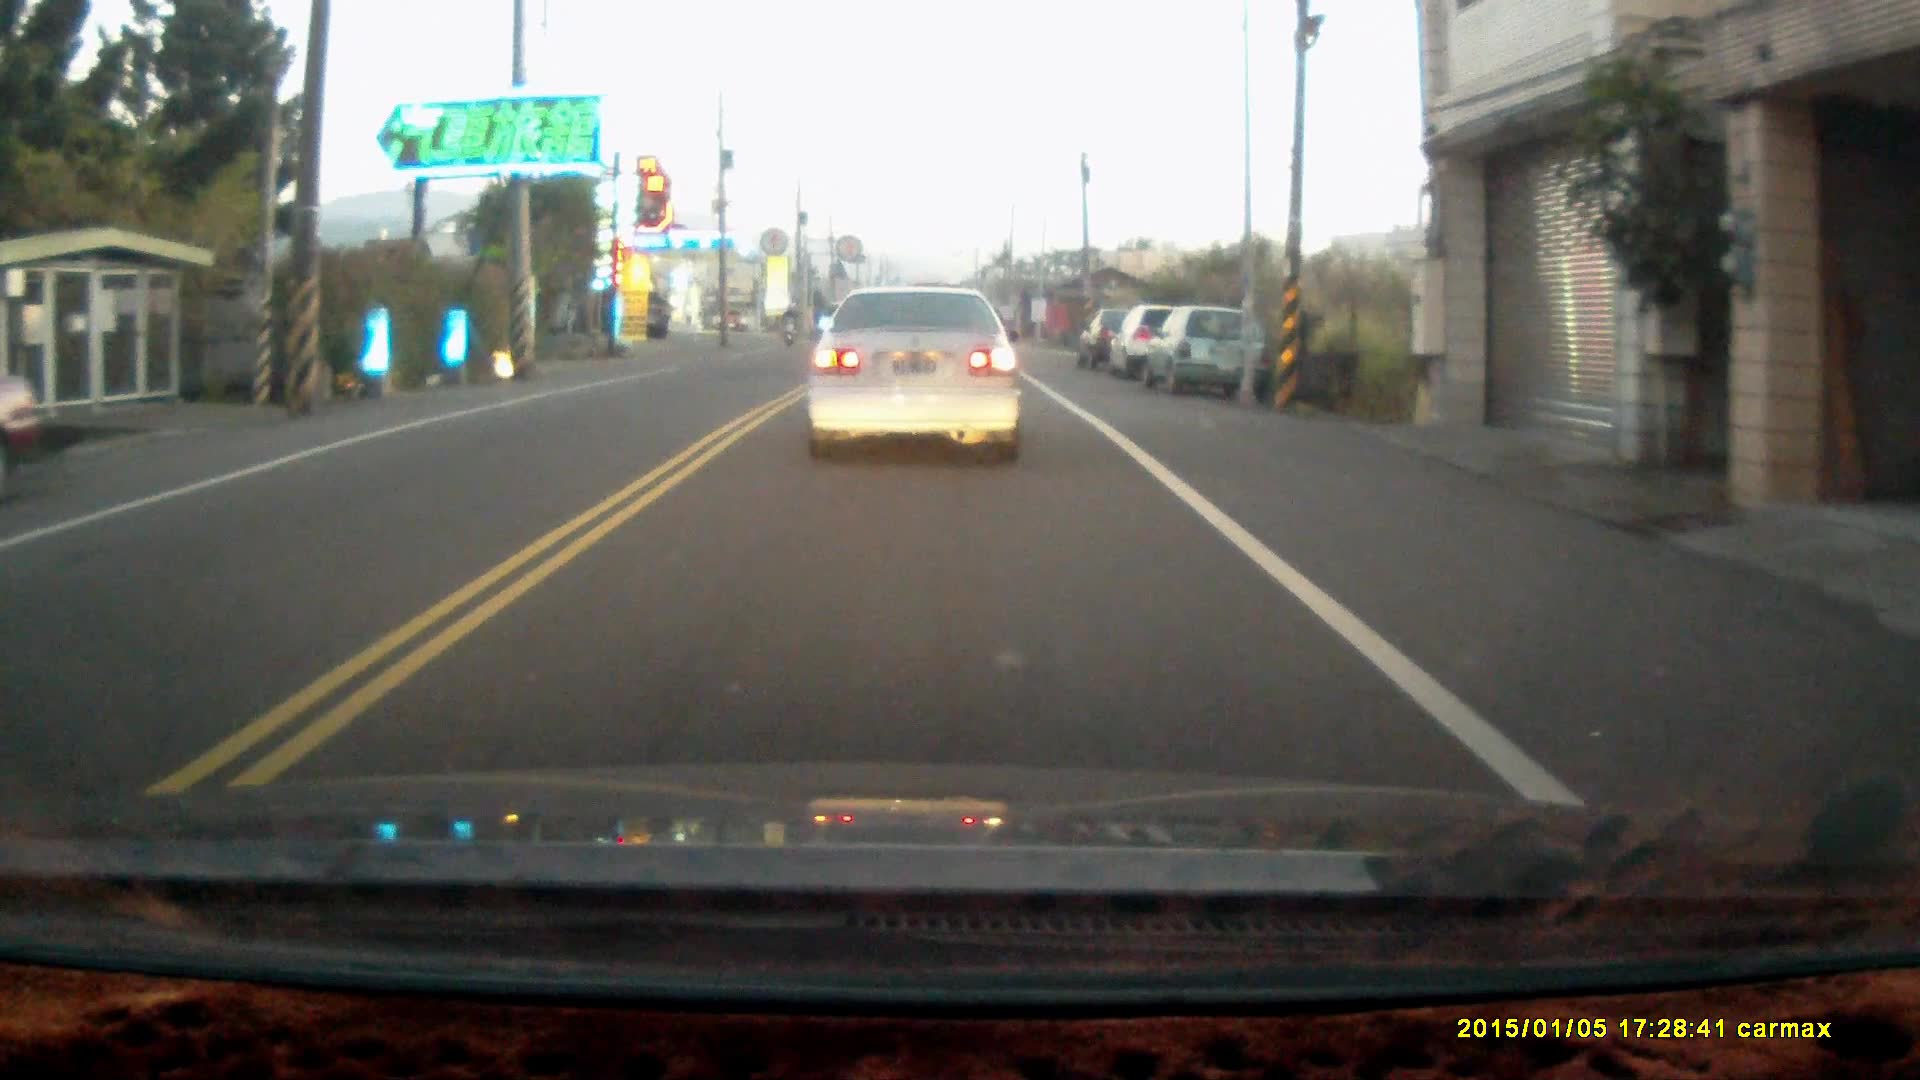vehicle: (804, 278, 1025, 463), (1151, 305, 1271, 404), (1117, 299, 1215, 375), (1075, 306, 1171, 375), (1, 373, 51, 459)
